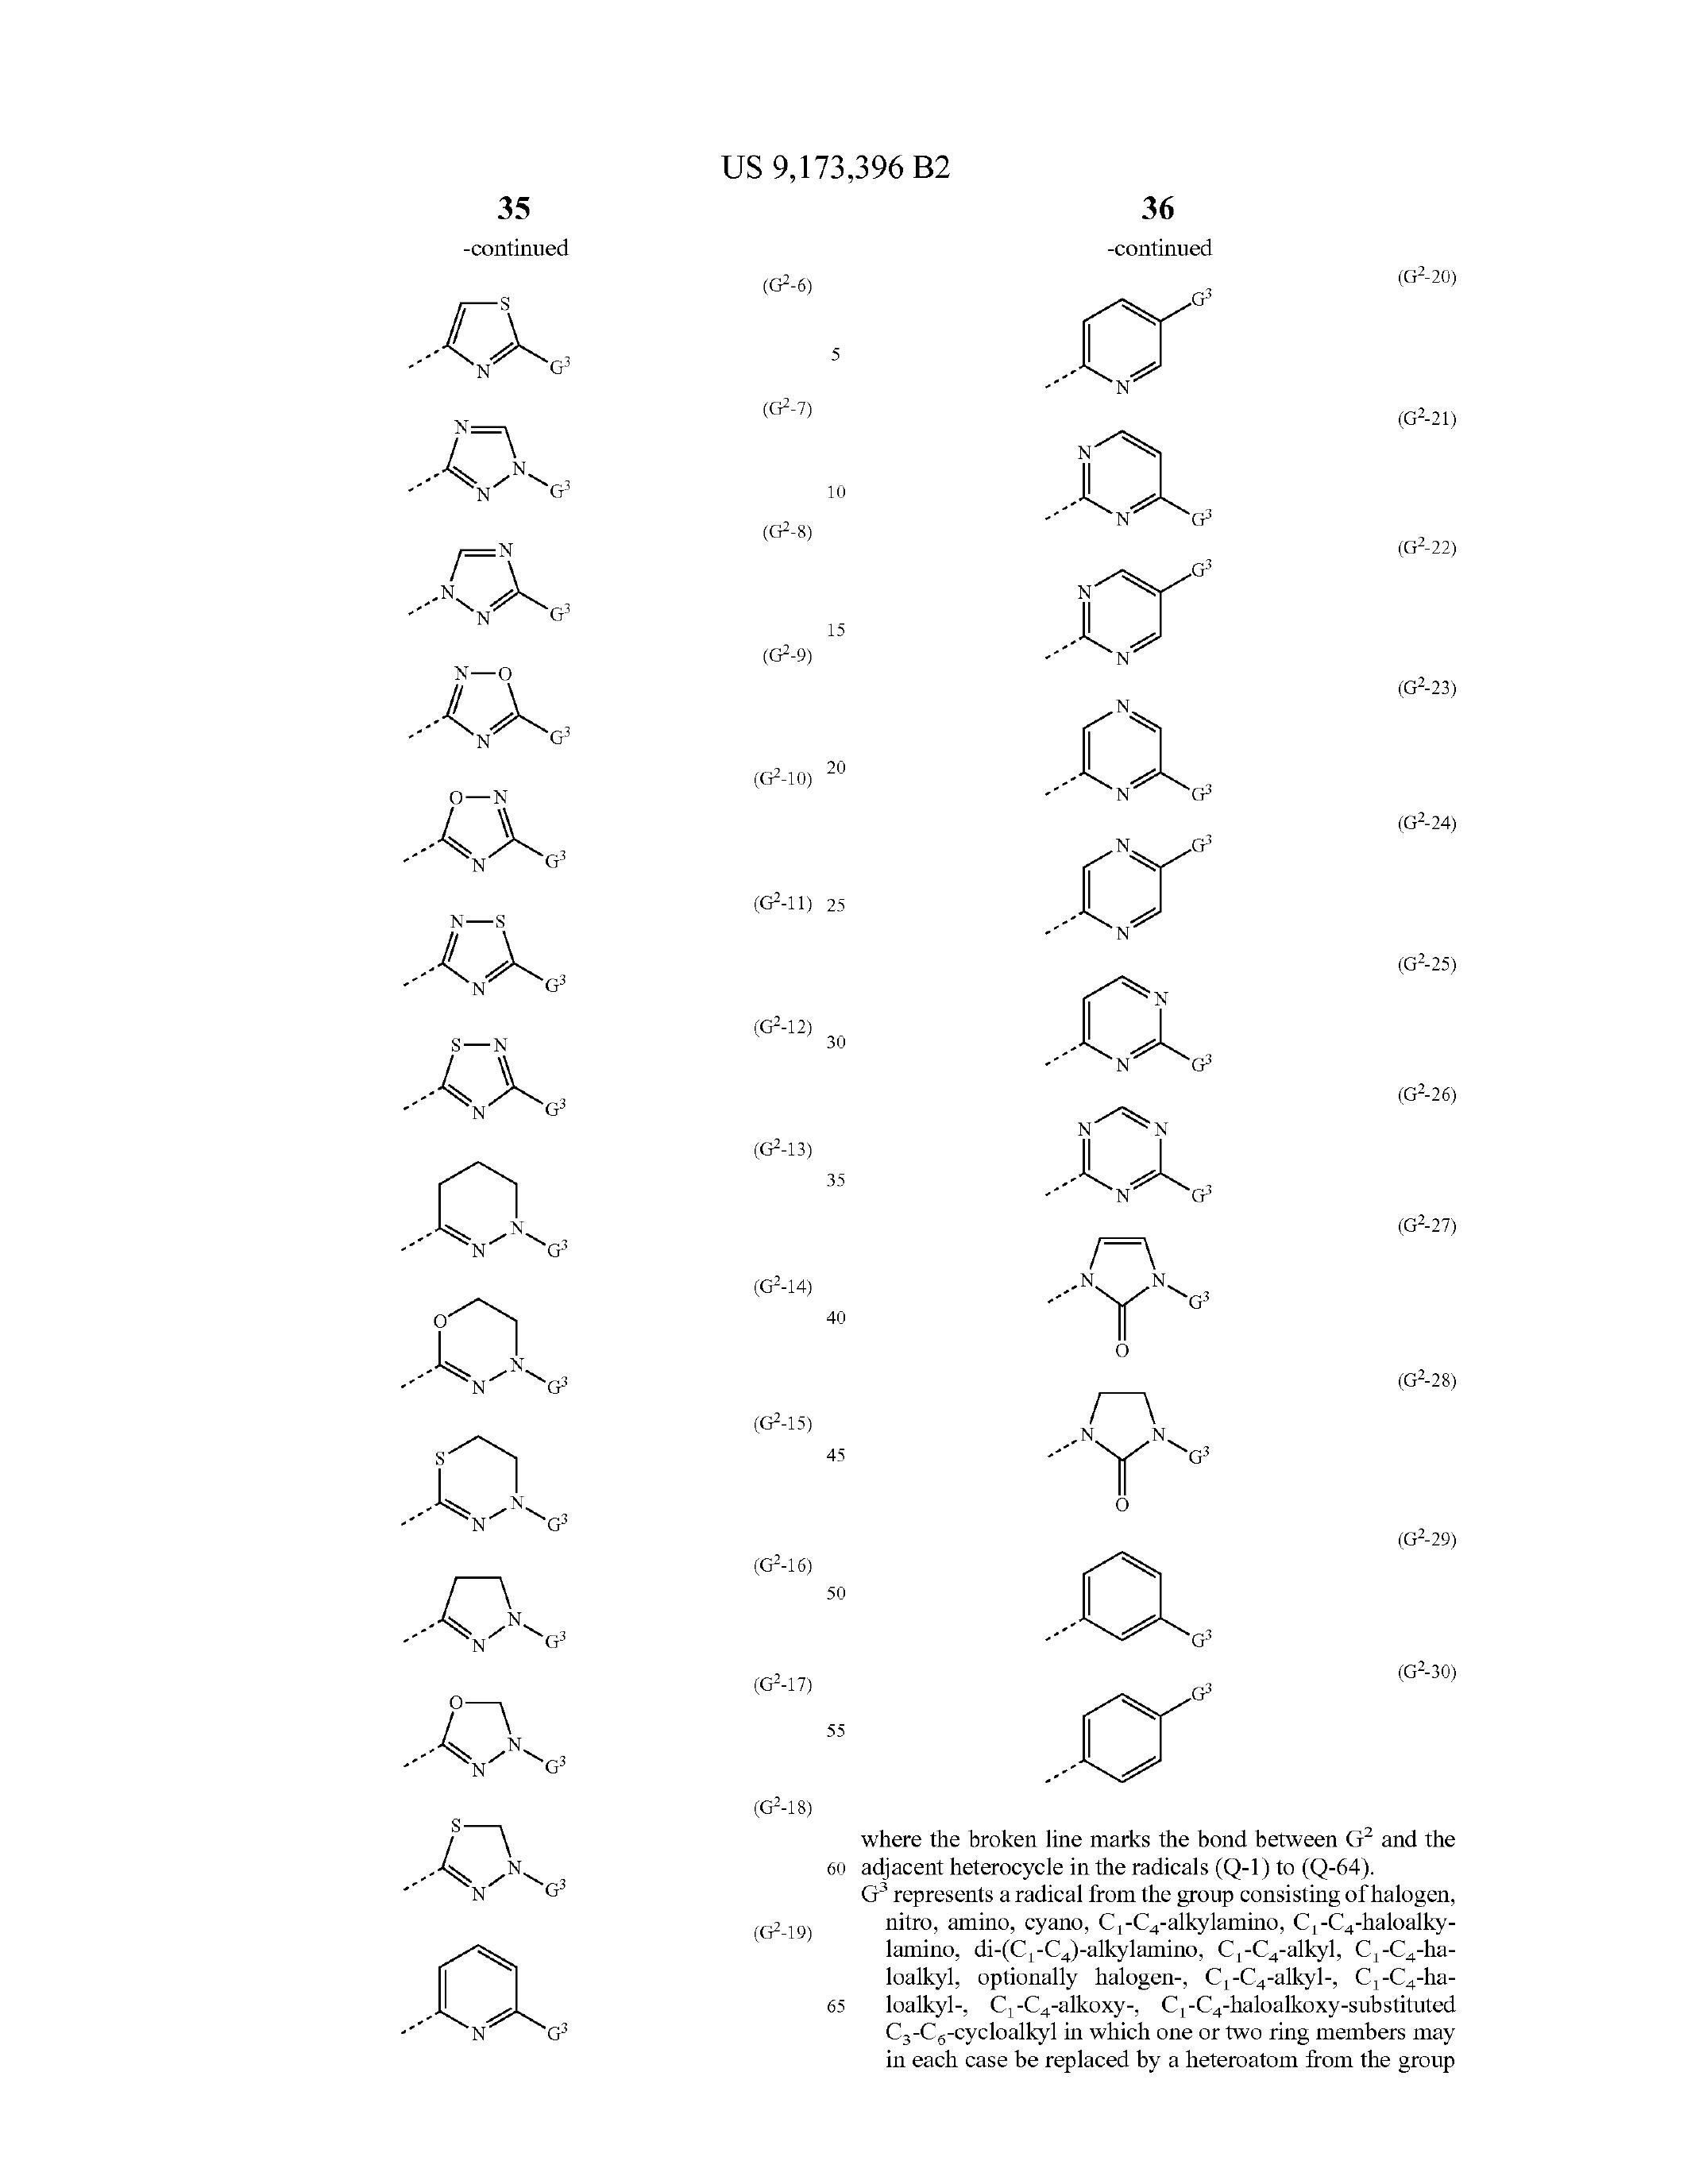intermediates: (950, 1374, 1317, 1801)
